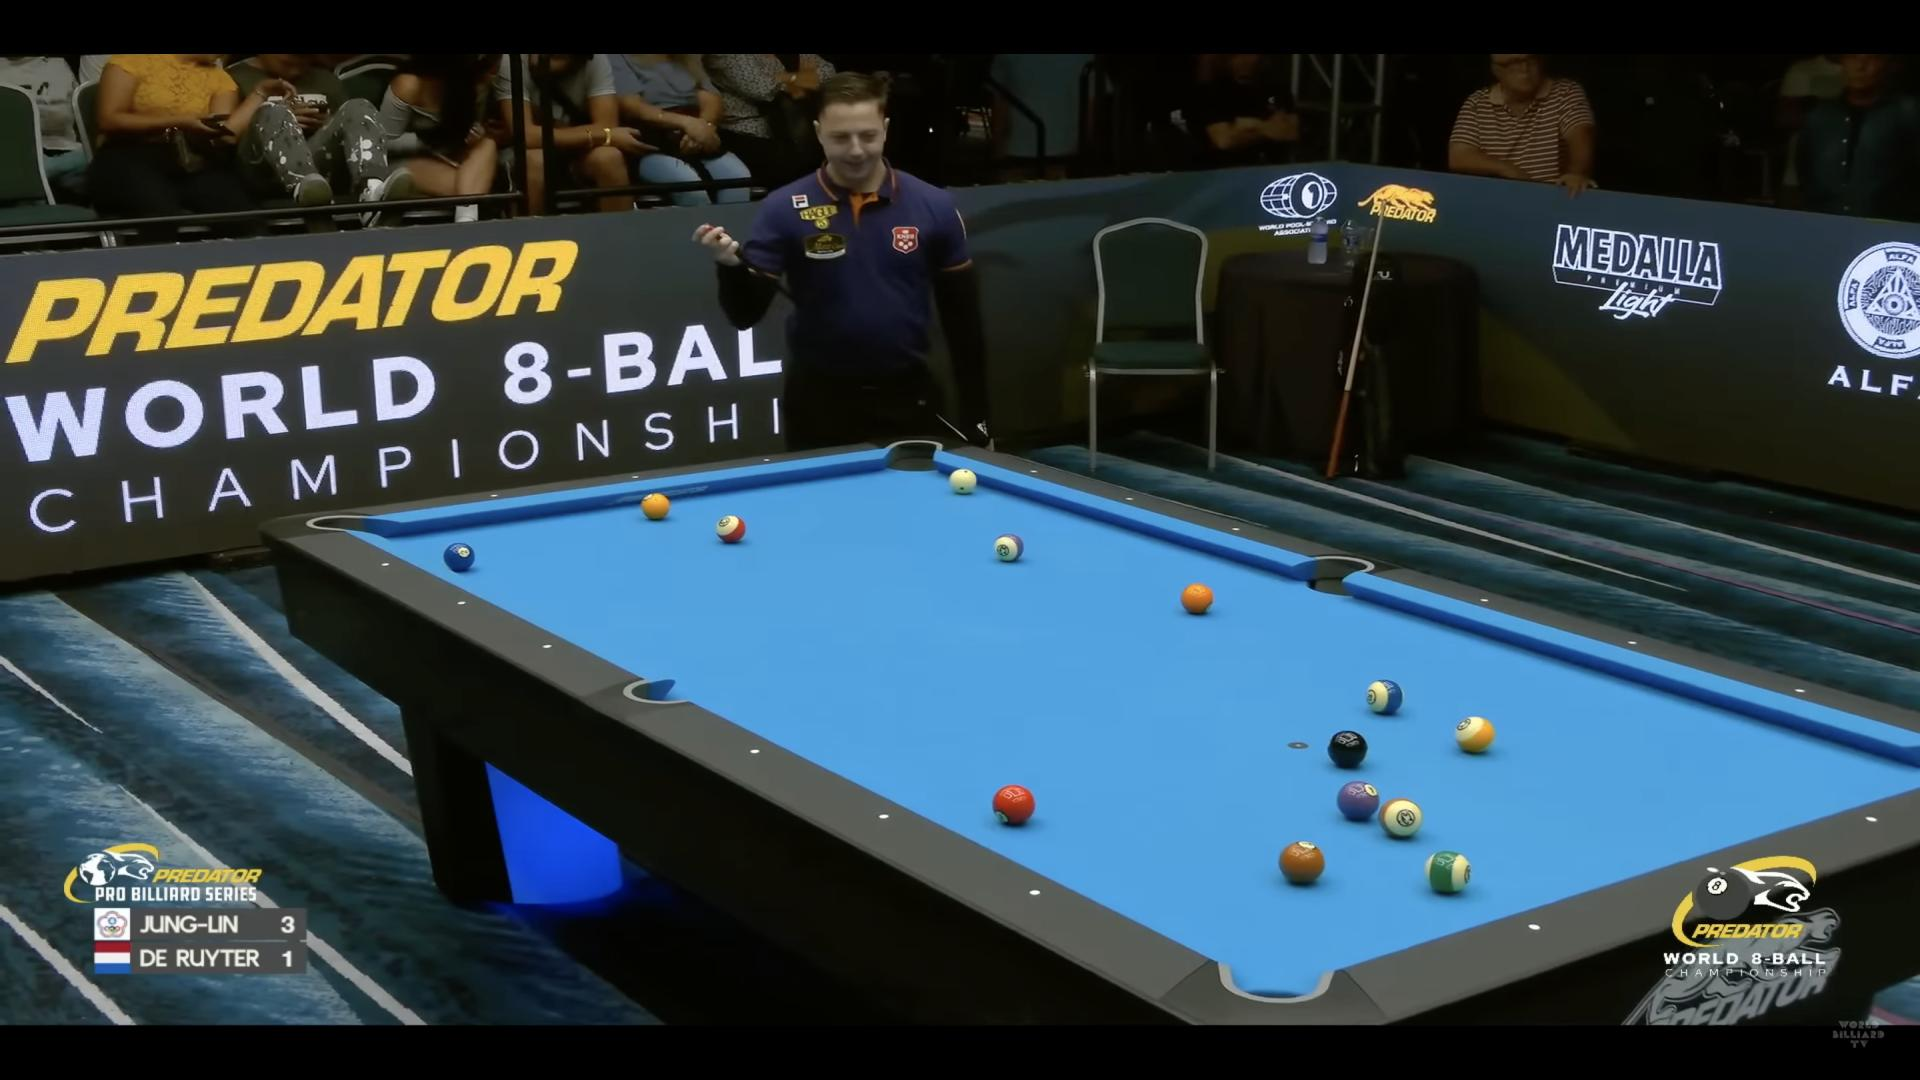Black: (1327, 731, 1369, 767)
Cue: (949, 468, 977, 493)
Dot: (1027, 885, 1046, 902), (873, 808, 891, 825), (745, 742, 764, 760), (538, 638, 555, 655), (452, 595, 469, 612), (1527, 920, 1543, 935), (1705, 864, 1721, 878), (1792, 683, 1808, 698), (1863, 814, 1879, 827), (1625, 638, 1639, 650), (1477, 593, 1491, 605), (1229, 524, 1244, 535), (1122, 493, 1137, 505), (1026, 465, 1040, 477), (381, 559, 393, 570), (632, 473, 640, 480), (491, 492, 497, 498), (764, 456, 770, 463)
Solid: (1279, 840, 1324, 882), (992, 785, 1035, 824), (1336, 781, 1379, 819), (1180, 583, 1213, 615), (443, 542, 475, 571), (641, 493, 670, 520)
Striped: (1424, 851, 1470, 893), (1378, 798, 1423, 837), (1455, 716, 1495, 753), (1366, 679, 1404, 713), (716, 516, 745, 543), (994, 534, 1025, 560)
